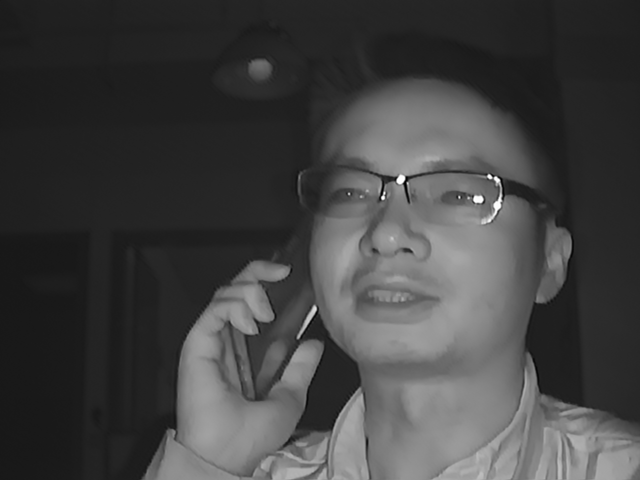hand: (180, 263, 316, 448)
